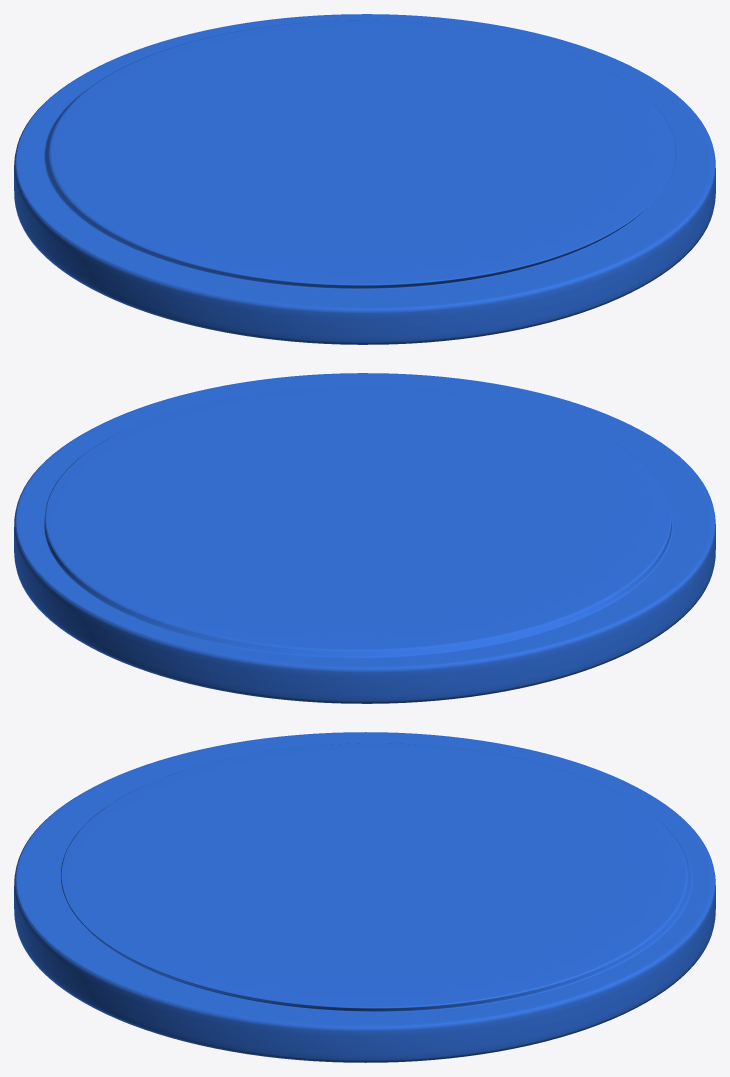
The picture shows the model from 3 angles, top to bottom: view 1: azimuth 30°, elevation 25°; view 2: azimuth 150°, elevation 25°; view 3: azimuth 270°, elevation 25°; orthographic projection.
Parts seen in each view (by area): view 1: Cylinder; view 2: Cylinder; view 3: Cylinder.
Part boxes in pixels (box(x1,y1,x2,y2)): Cylinder: box(14, 14, 715, 344); Cylinder: box(14, 373, 715, 703); Cylinder: box(14, 732, 715, 1062).
Bounding box in the file's own units: 1.99 × 0.1491 × 1.99.
